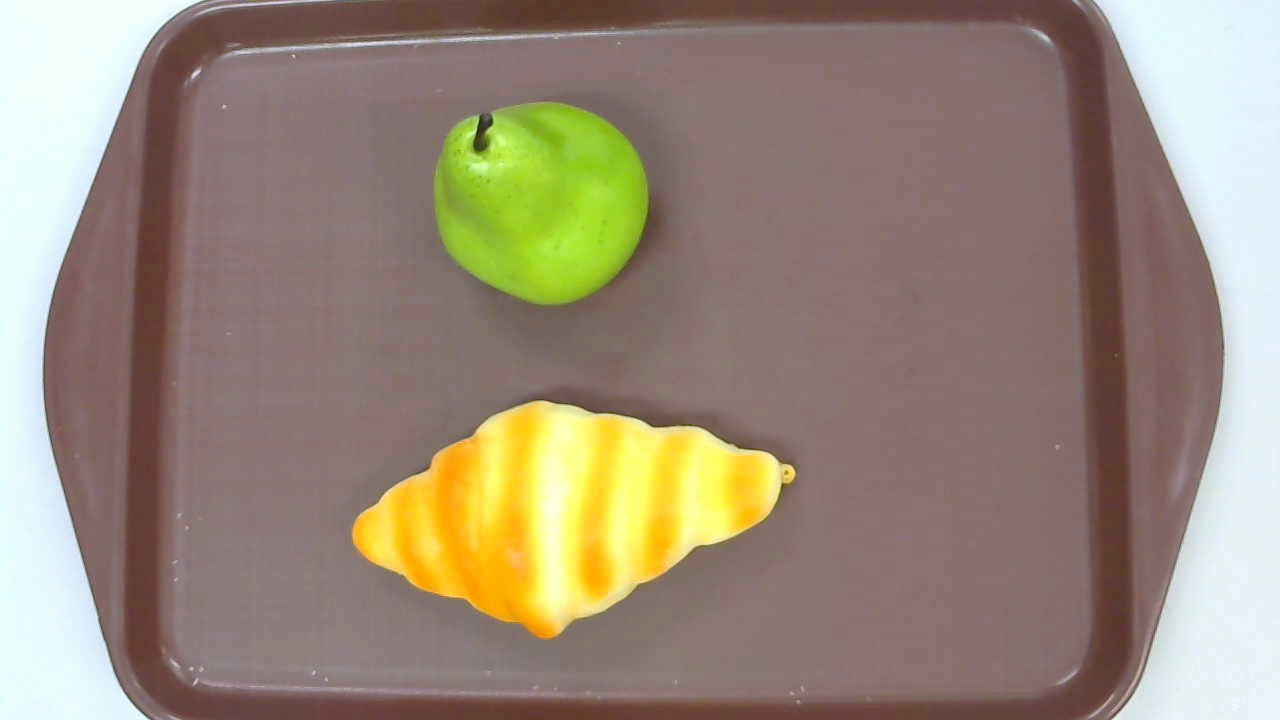croissant: (351, 400, 796, 641)
green pear: (433, 100, 650, 306)
